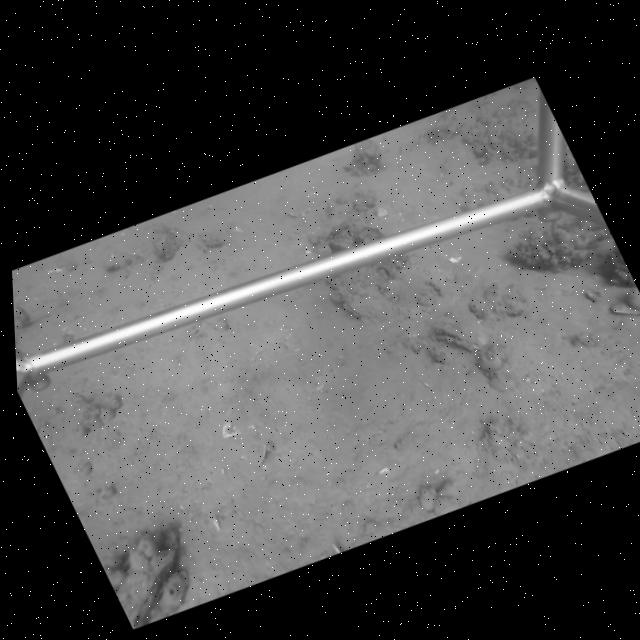Oyster-Closed: (116, 548, 178, 629), (336, 271, 395, 323)
Oyster-Open: (432, 311, 496, 355)
